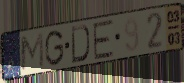2: (145, 11, 164, 52)
9: (123, 17, 141, 54)
D: (71, 24, 92, 65)
E: (91, 18, 115, 61)
G: (44, 29, 65, 68)
M: (20, 31, 45, 73)
